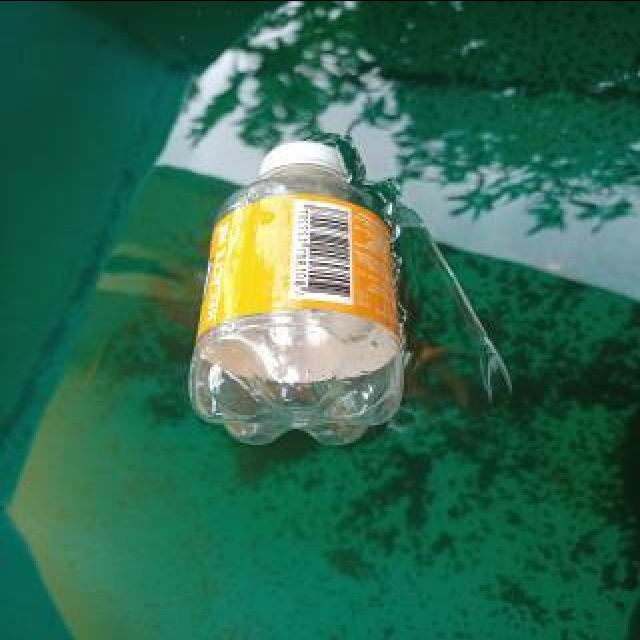Bottle: (188, 138, 408, 448)
